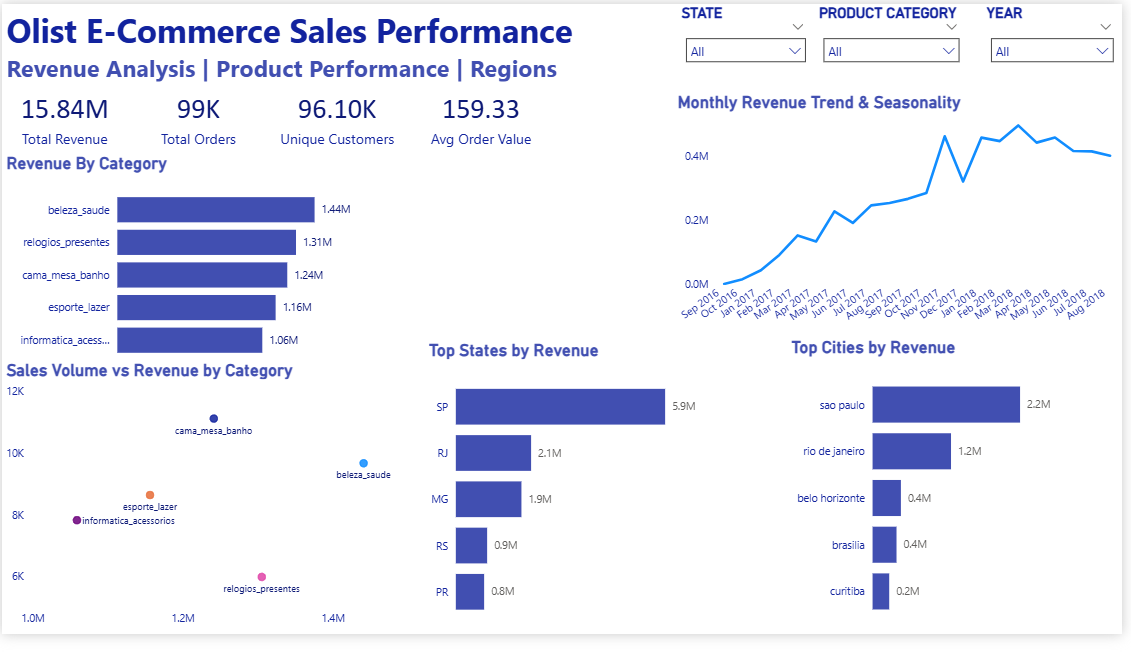

What the dashboard file says about the page in this screenshot:
{"tool":"powerbi","page":{"name":"Page 1","canvas":[1280,720],"ordinal":0},"visuals":[{"type":"textbox","box":[0,0,732.9,141.4],"z":0},{"type":"card","fields":{"Values":["olist_order_items_dataset.Total Revenue"]},"box":[0,88.8,143.8,82.5],"z":1000},{"type":"card","fields":{"Values":["olist_orders_dataset.Total Orders"]},"box":[152.5,88.8,143.8,82.5],"z":2000},{"type":"card","fields":{"Values":["Count(olist_customers_dataset.customer_unique_id)"]},"box":[311.2,88.8,143.8,82.5],"z":3000},{"type":"card","fields":{"Values":["olist_order_items_dataset.Avg Order Value"]},"box":[475,88.8,143.8,82.5],"z":4000},{"type":"clusteredBarChart","title":"Revenue By Category","fields":{"Category":["olist_products_dataset.product_category_name"],"Y":["olist_order_items_dataset.Total Revenue"]},"box":[0,171.7,475,248.3],"z":5000},{"type":"scatterChart","title":"Sales Volume vs Revenue by Category","fields":{"X":["olist_order_items_dataset.Total Revenue"],"Y":["olist_order_items_dataset.sale_vol"],"Series":["olist_products_dataset.product_category_name"]},"box":[0,407.1,482.9,312.9],"z":6000},{"type":"lineChart","title":"Monthly Revenue Trend & Seasonality","fields":{"Y":["olist_order_items_dataset.Total Revenue"],"Category":["olist_orders_dataset.MonthYear"]},"box":[767.1,101.4,512.9,282.9],"z":7000},{"type":"clusteredBarChart","title":"Top States by Revenue","fields":{"Y":["olist_order_items_dataset.Total Revenue"],"Category":["olist_customers_dataset.customer_state"]},"box":[482.9,384.3,394.3,335.7],"z":8000},{"type":"slicer","title":"YEAR","fields":{"Values":["olist_orders_dataset.order_purchase_timestamp.Variation.Date Hierarchy.Year","olist_orders_dataset.order_purchase_timestamp.Variation.Date Hierarchy.Month"]},"box":[1120,0,160,101.4],"z":9000},{"type":"slicer","title":"STATE","fields":{"Values":["olist_customers_dataset.customer_state"]},"box":[771.4,0,157.1,88.6],"z":10000},{"type":"slicer","title":"PRODUCT CATEGORY ","fields":{"Values":["olist_products_dataset.product_category_name"]},"box":[928.6,0,175.7,94.3],"z":11000},{"type":"clusteredBarChart","title":"Top Cities by Revenue","fields":{"Y":["olist_order_items_dataset.Total Revenue"],"Category":["olist_customers_dataset.customer_city"]},"box":[897.1,381.4,382.9,338.6],"z":12000}]}

Visuals, with their boxes in screenshot pixels (x1, y1, x2, y2), scaled from the page's 1280x720 canvas onto the 1131x653 screenshot:
textbox: (x1=0, y1=0, x2=648, y2=128)
card - olist_order_items_dataset.Total Revenue: (x1=0, y1=81, x2=127, y2=155)
card - olist_orders_dataset.Total Orders: (x1=135, y1=81, x2=262, y2=155)
card - Count(olist_customers_dataset.customer_unique_id): (x1=275, y1=81, x2=402, y2=155)
card - olist_order_items_dataset.Avg Order Value: (x1=420, y1=81, x2=547, y2=155)
"Revenue By Category" clusteredBarChart: (x1=0, y1=156, x2=420, y2=381)
"Sales Volume vs Revenue by Category" scatterChart: (x1=0, y1=369, x2=427, y2=652)
"Monthly Revenue Trend & Seasonality" lineChart: (x1=678, y1=92, x2=1130, y2=349)
"Top States by Revenue" clusteredBarChart: (x1=427, y1=349, x2=775, y2=652)
"YEAR" slicer: (x1=990, y1=0, x2=1130, y2=92)
"STATE" slicer: (x1=682, y1=0, x2=820, y2=80)
"PRODUCT CATEGORY " slicer: (x1=821, y1=0, x2=976, y2=86)
"Top Cities by Revenue" clusteredBarChart: (x1=793, y1=346, x2=1130, y2=652)
